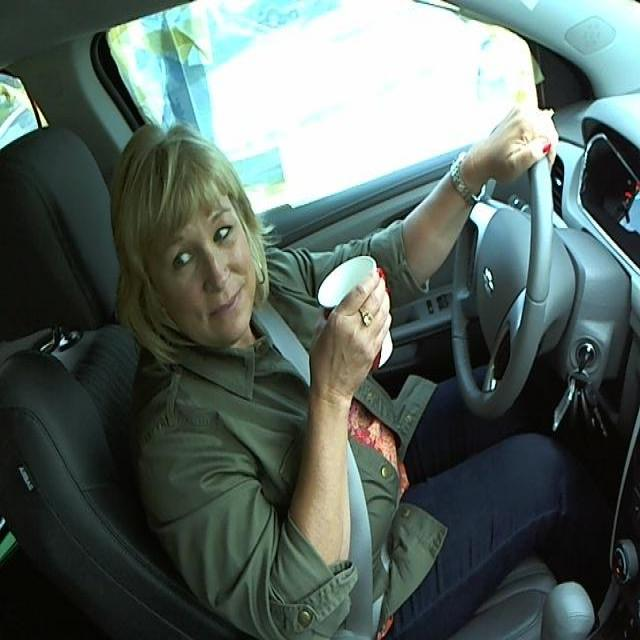drinking: (318, 254, 397, 370)
